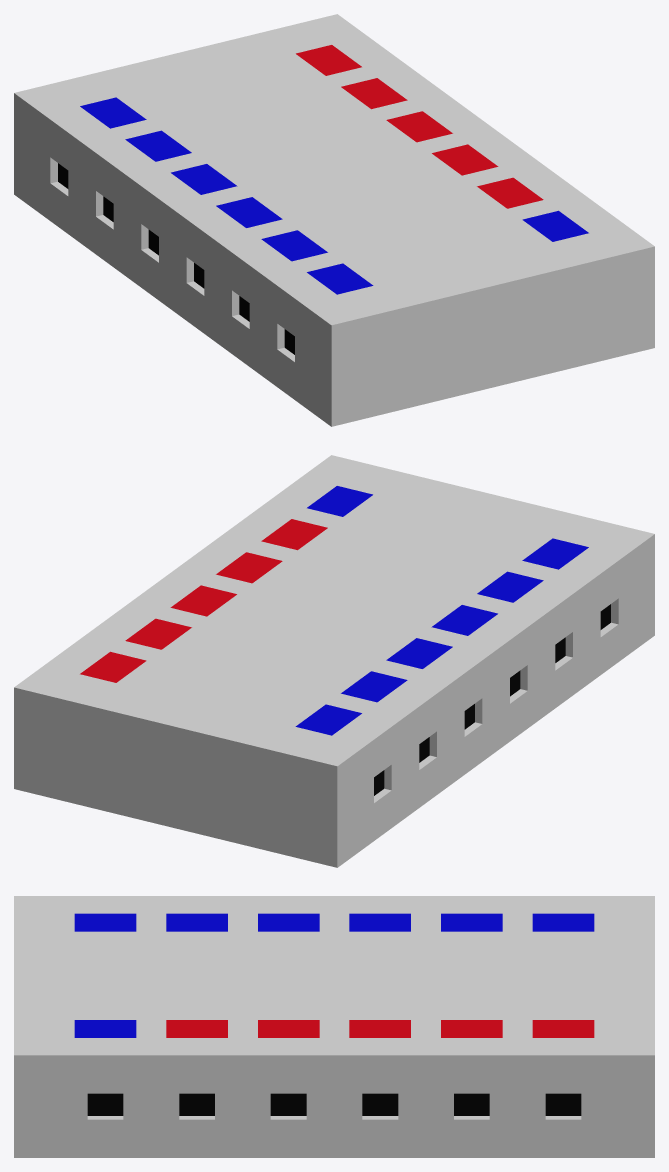
File: sitovaKrabicka.fbx
The picture shows the model from 3 angles, top to bottom: view 1: azimuth 30°, elevation 25°; view 2: azimuth 150°, elevation 25°; view 3: azimuth 270°, elevation 25°; orthographic projection.
Visible parts, largest first — view 1: sitovaKrabicka; view 2: sitovaKrabicka; view 3: sitovaKrabicka.
Boxes of the visible parts, box(x1,y1,x2,y2) form: sitovaKrabicka: box(14, 14, 654, 426); sitovaKrabicka: box(14, 455, 654, 867); sitovaKrabicka: box(14, 896, 654, 1157).
Bounding box in the file's own units: 10 × 3 × 17.
